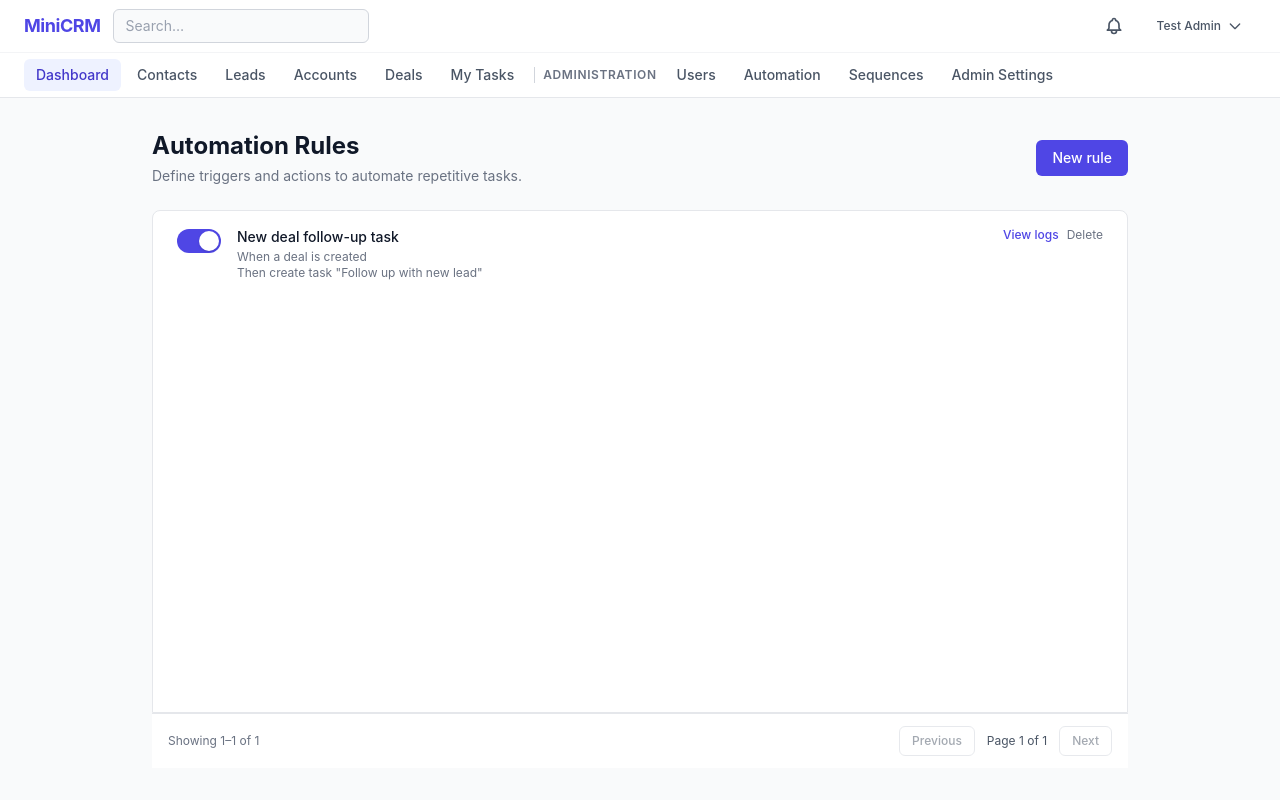
AutomationRulesPage › create rule form › closes the form when cancel is clicked
Click the button with test id "new-rule-button": (1082, 158) [1036,140,1128,176]
(page scrolled)
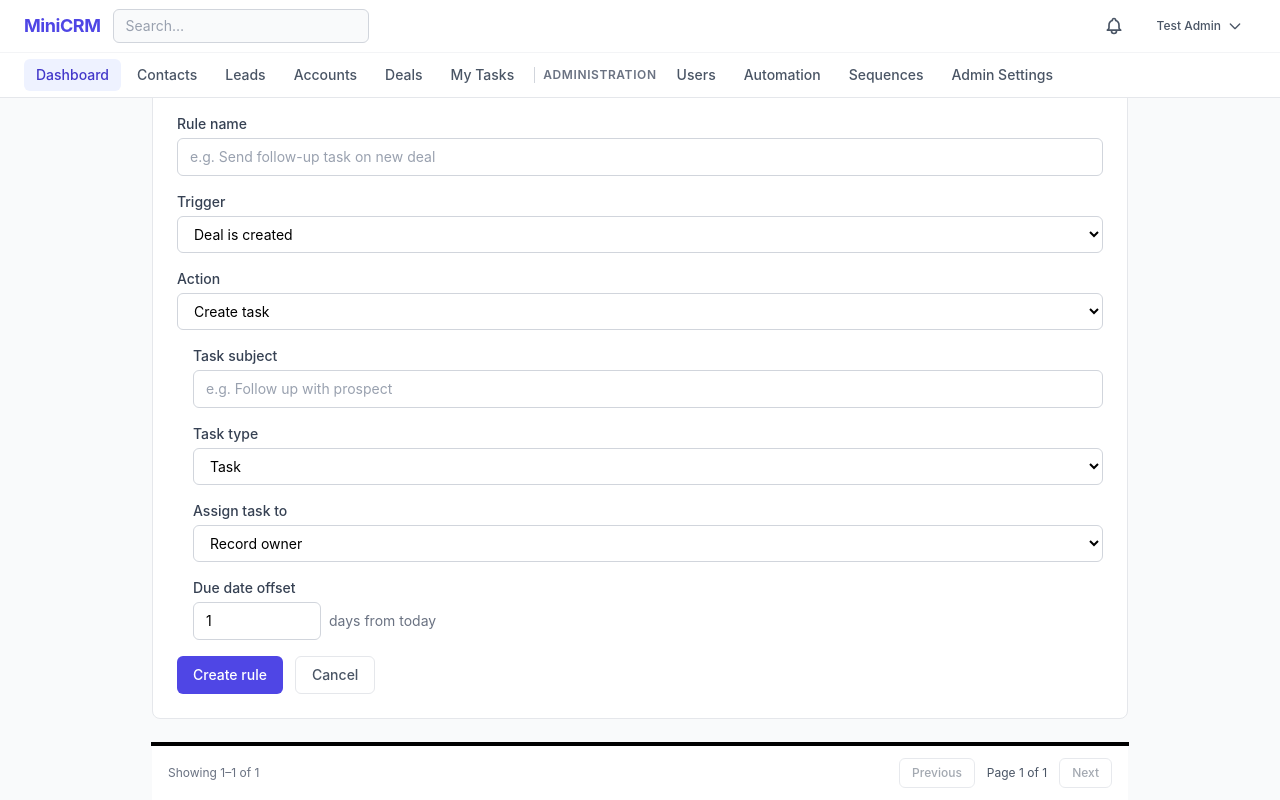
Click the button with test id "create-rule-cancel": (335, 675) [295,656,375,694]
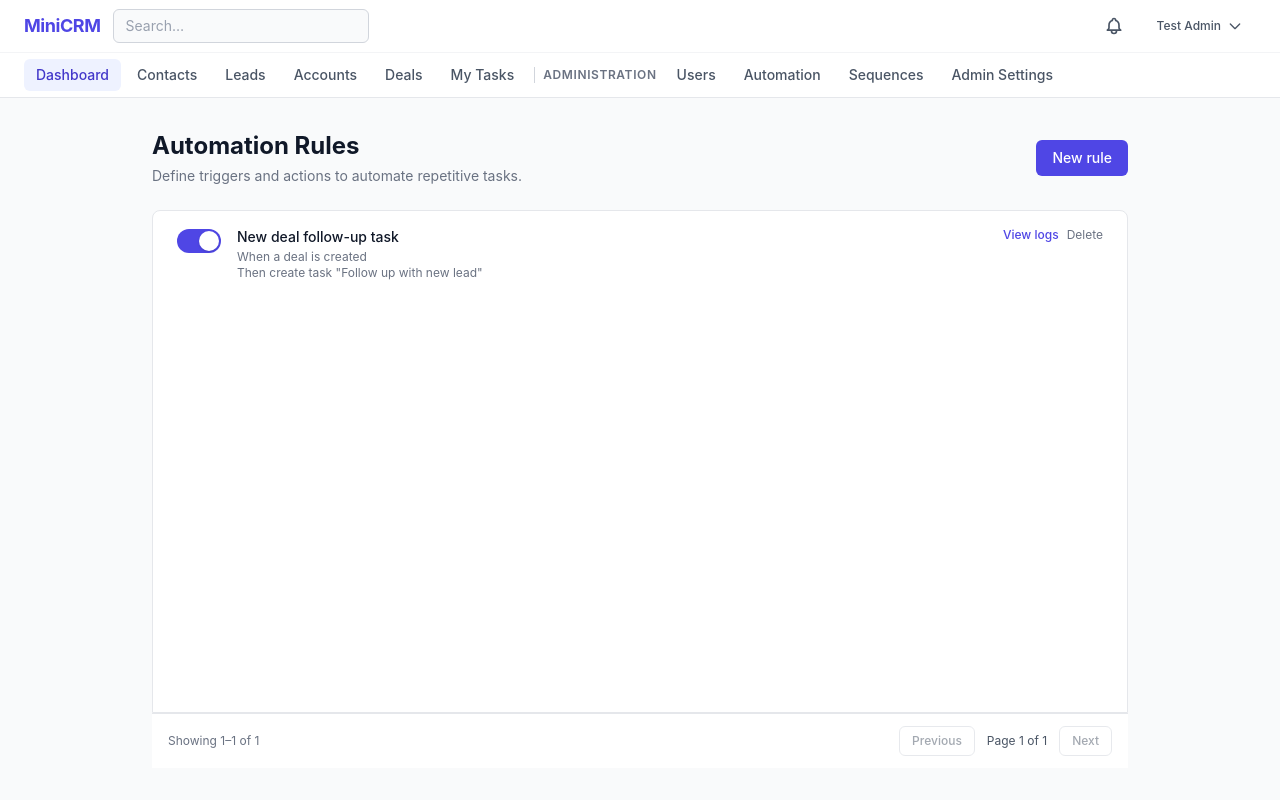
Expected: the form with test id "create-rule-form" is gone
